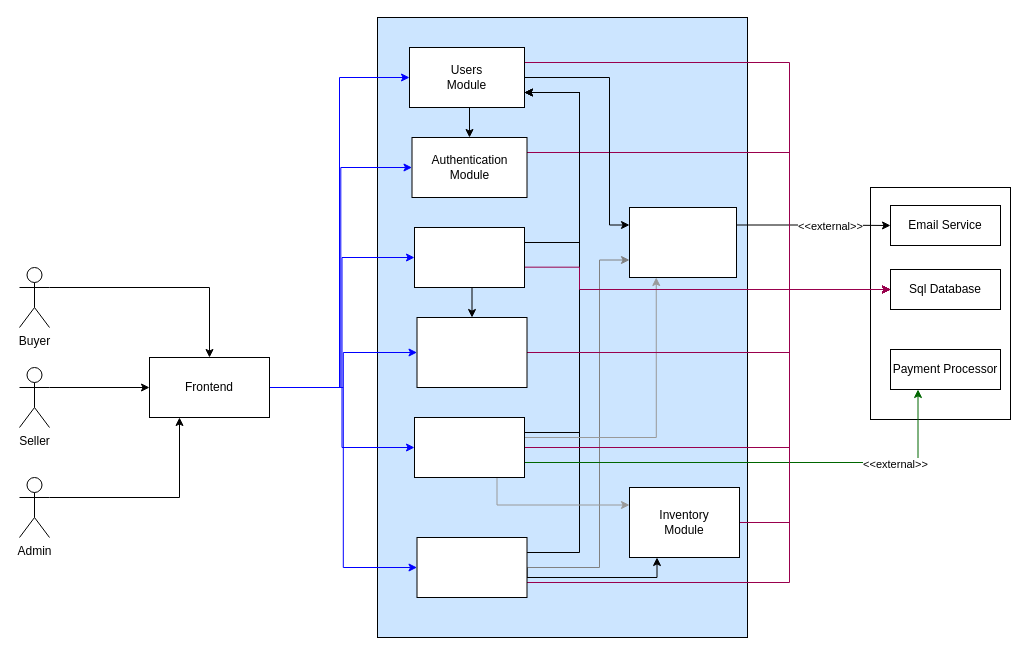
Image size: 1028x655. Some labels were removed from this diagram. The shapes that lost their labels are listed below. From the top down, each one's box as (x1, y1, x2, y2) in pixels, then its label:
(414, 226, 524, 288): Cart Module
(628, 206, 736, 278): Notification Module
(416, 316, 527, 388): Book Module
(414, 416, 524, 478): Order Module
(416, 536, 527, 598): Returns Module
